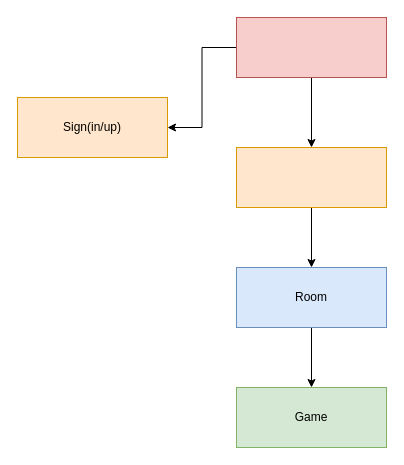
Some shapes in this 404 by 465 pixel diagram are drawn without their labels. Each missing label, with the box of its shape:
Homepage: (236, 16, 386, 78)
Waiting: (236, 146, 386, 208)
